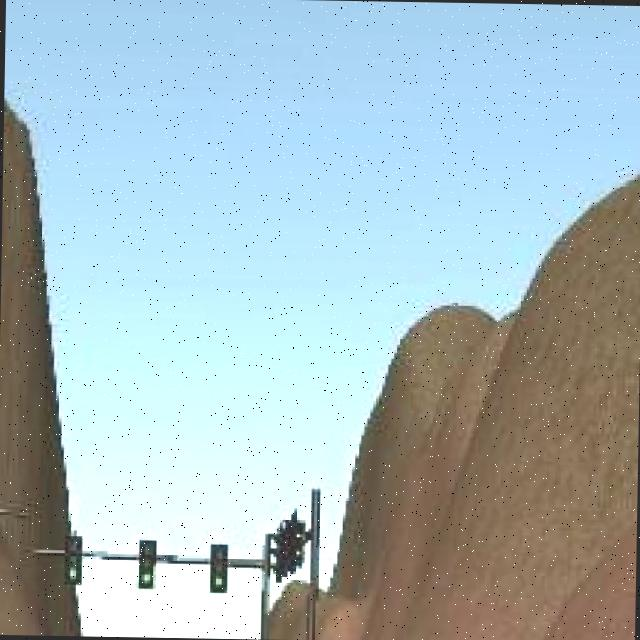Zielone swiatlo: (136, 534, 156, 589), (64, 530, 82, 588), (209, 544, 225, 593)
